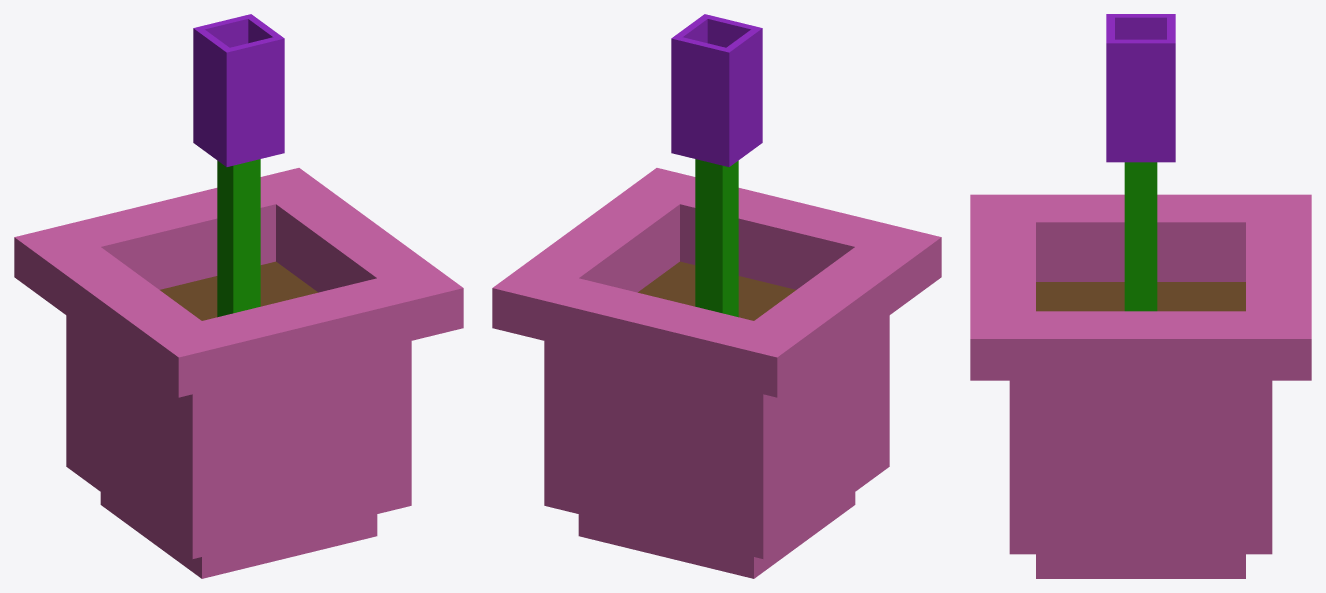
Rendered from flower2.fbx.
The picture shows the model from 3 angles, left to right: view 1: azimuth 30°, elevation 25°; view 2: azimuth 150°, elevation 25°; view 3: azimuth 270°, elevation 25°; orthographic projection. The views are drawn at different scales.
Parts seen in each view (by area): view 1: vase, flower2, stalk; view 2: vase, flower2, stalk; view 3: vase, flower2, stalk.
Boxes of the visible parts, <box> form: vase: <box>14,168,463,578</box>; flower2: <box>193,14,284,166</box>; stalk: <box>217,159,260,317</box>; vase: <box>492,168,941,578</box>; flower2: <box>671,14,762,166</box>; stalk: <box>695,159,738,317</box>; vase: <box>970,194,1311,578</box>; flower2: <box>1106,14,1175,162</box>; stalk: <box>1124,162,1157,311</box>.
Bounding box in the file's own units: 78 × 127 × 78.
